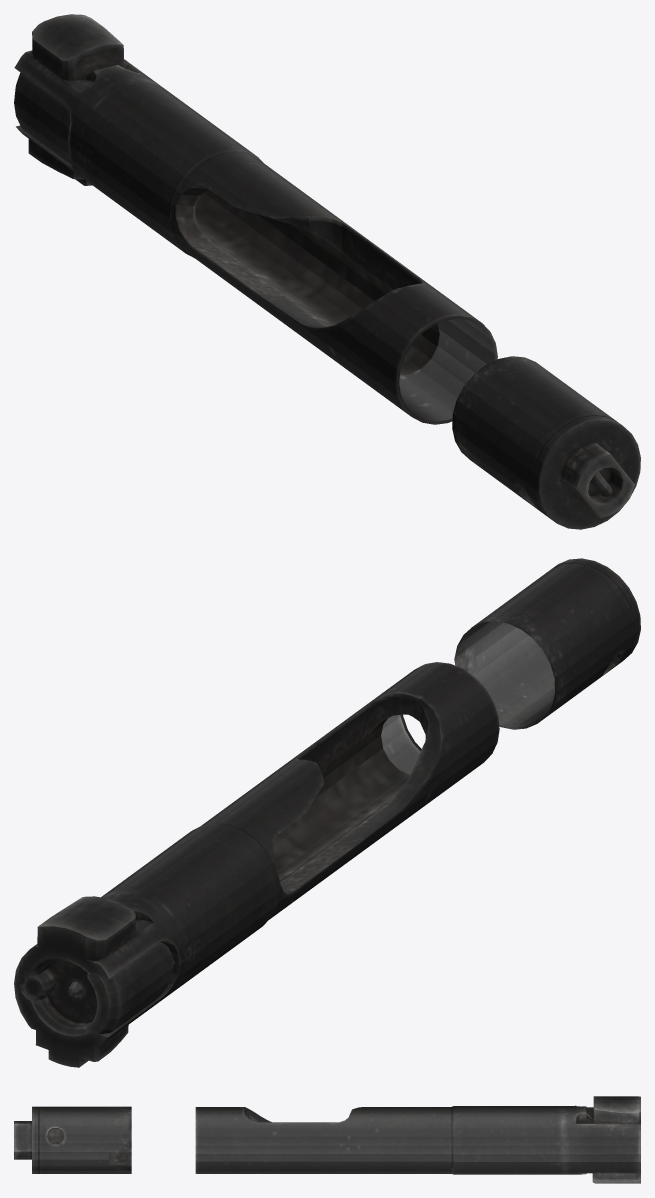
3 renders of one model, top to bottom at view 1: azimuth 30°, elevation 25°; view 2: azimuth 150°, elevation 25°; view 3: azimuth 270°, elevation 25°, orthographic. The views are drawn at different scales.
Visible parts, largest first — view 1: TW_661ceb1b9311543c7104149b_PZ_Import; view 2: TW_661ceb1b9311543c7104149b_PZ_Import; view 3: TW_661ceb1b9311543c7104149b_PZ_Import.
Part boxes in pixels (x1,y1,x2,y2): TW_661ceb1b9311543c7104149b_PZ_Import: (14, 14, 640, 529); TW_661ceb1b9311543c7104149b_PZ_Import: (14, 558, 640, 1067); TW_661ceb1b9311543c7104149b_PZ_Import: (14, 1096, 640, 1183).
Bounding box in the file's own units: 0.0113 × 0.1025 × 0.0144.
1 material, 1 textured.
